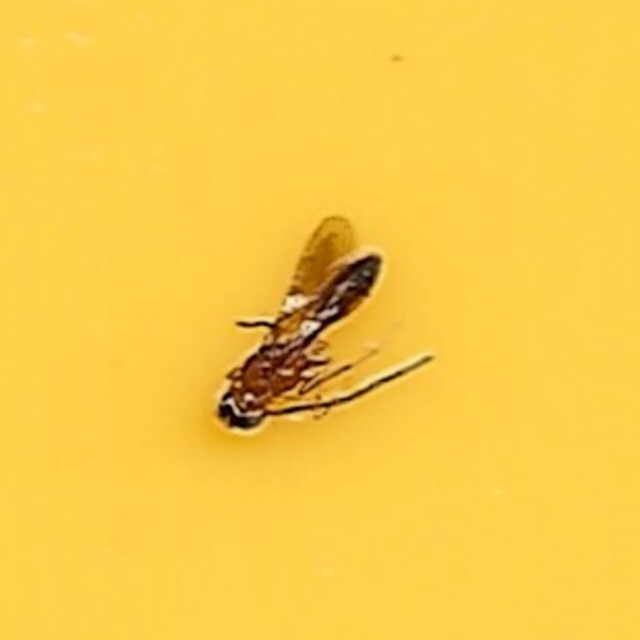Hymenoptera: (207, 206, 433, 434)
